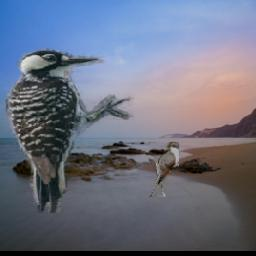Cuckoo: (150, 142, 180, 197)
Woodpecker: (1, 49, 134, 214)
